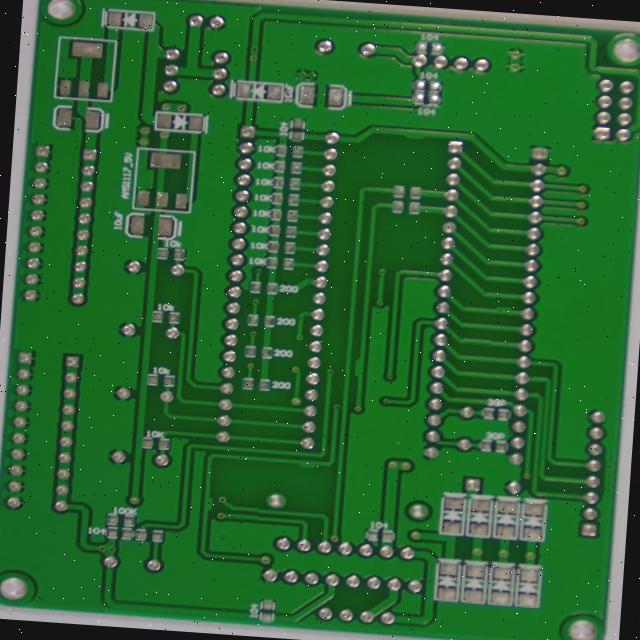spur: (353, 135, 384, 157), (292, 387, 314, 417), (225, 501, 257, 520), (461, 331, 490, 346), (116, 542, 135, 563)
